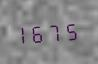five: (63, 19, 77, 41)
one: (18, 22, 32, 45)
seven: (48, 20, 62, 43)
six: (33, 21, 47, 44)
